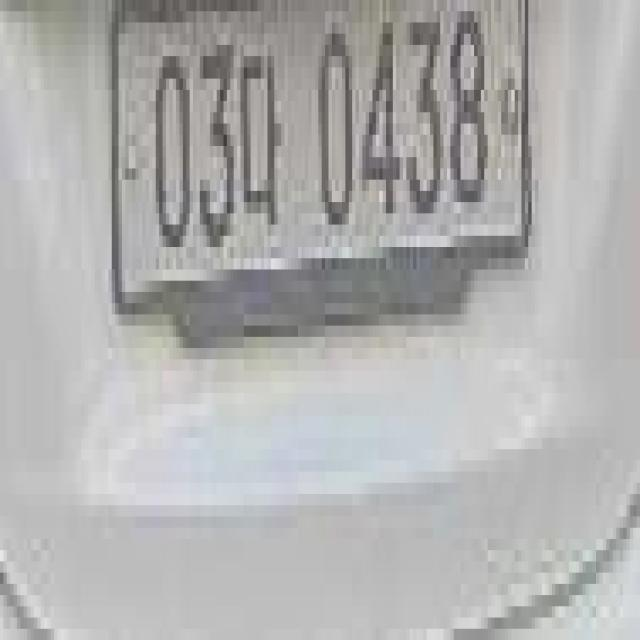illegal_plate: (108, 1, 538, 324)
